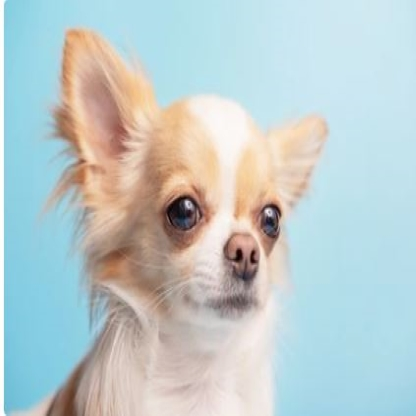chihuahua: (29, 25, 335, 416)
